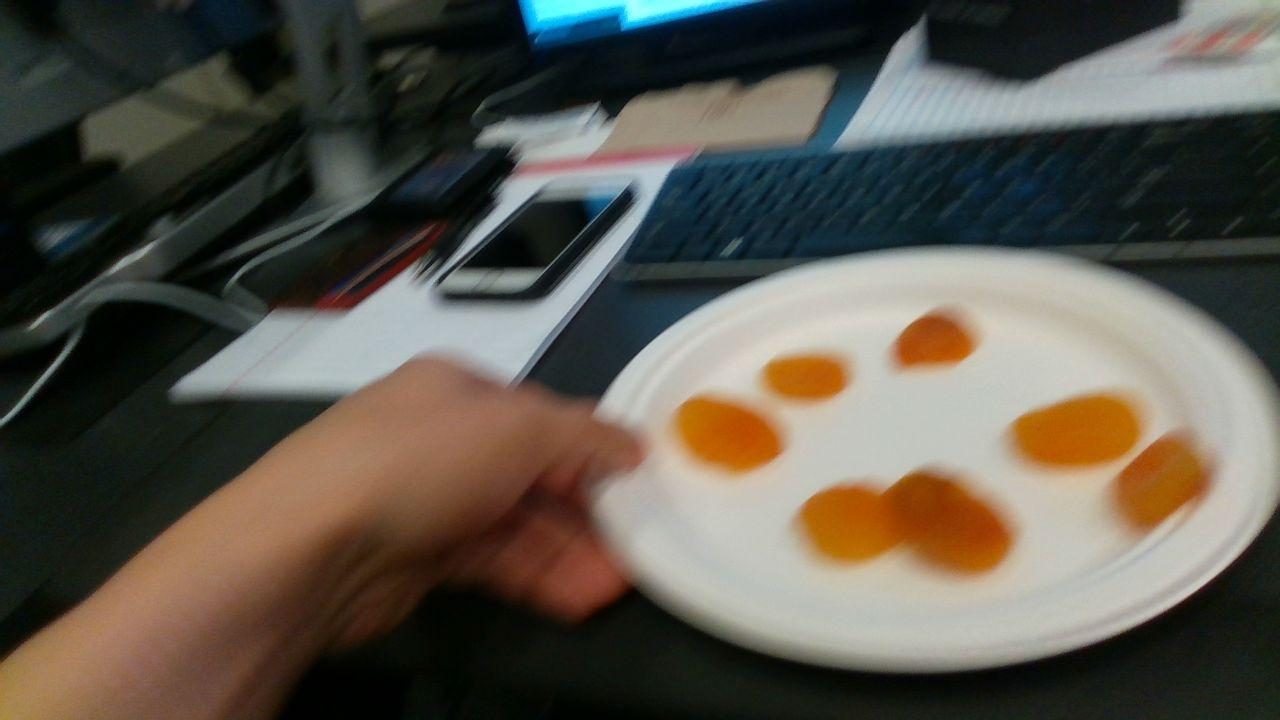apricot: (887, 473, 1009, 574), (1012, 396, 1140, 463), (802, 489, 897, 560), (680, 400, 778, 468), (1120, 444, 1200, 524), (899, 315, 972, 365), (764, 356, 844, 398)
